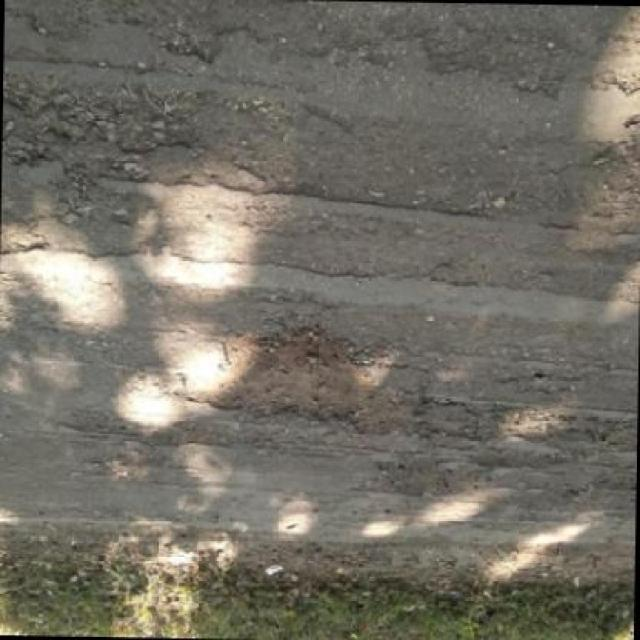pothole: (172, 327, 450, 436)
